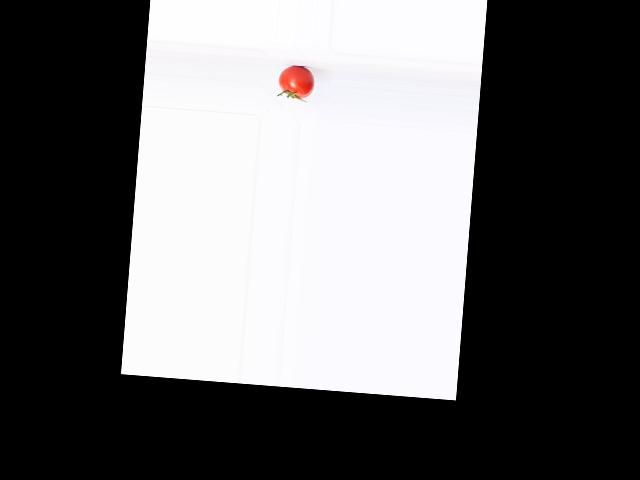tomato: (277, 64, 316, 99)
